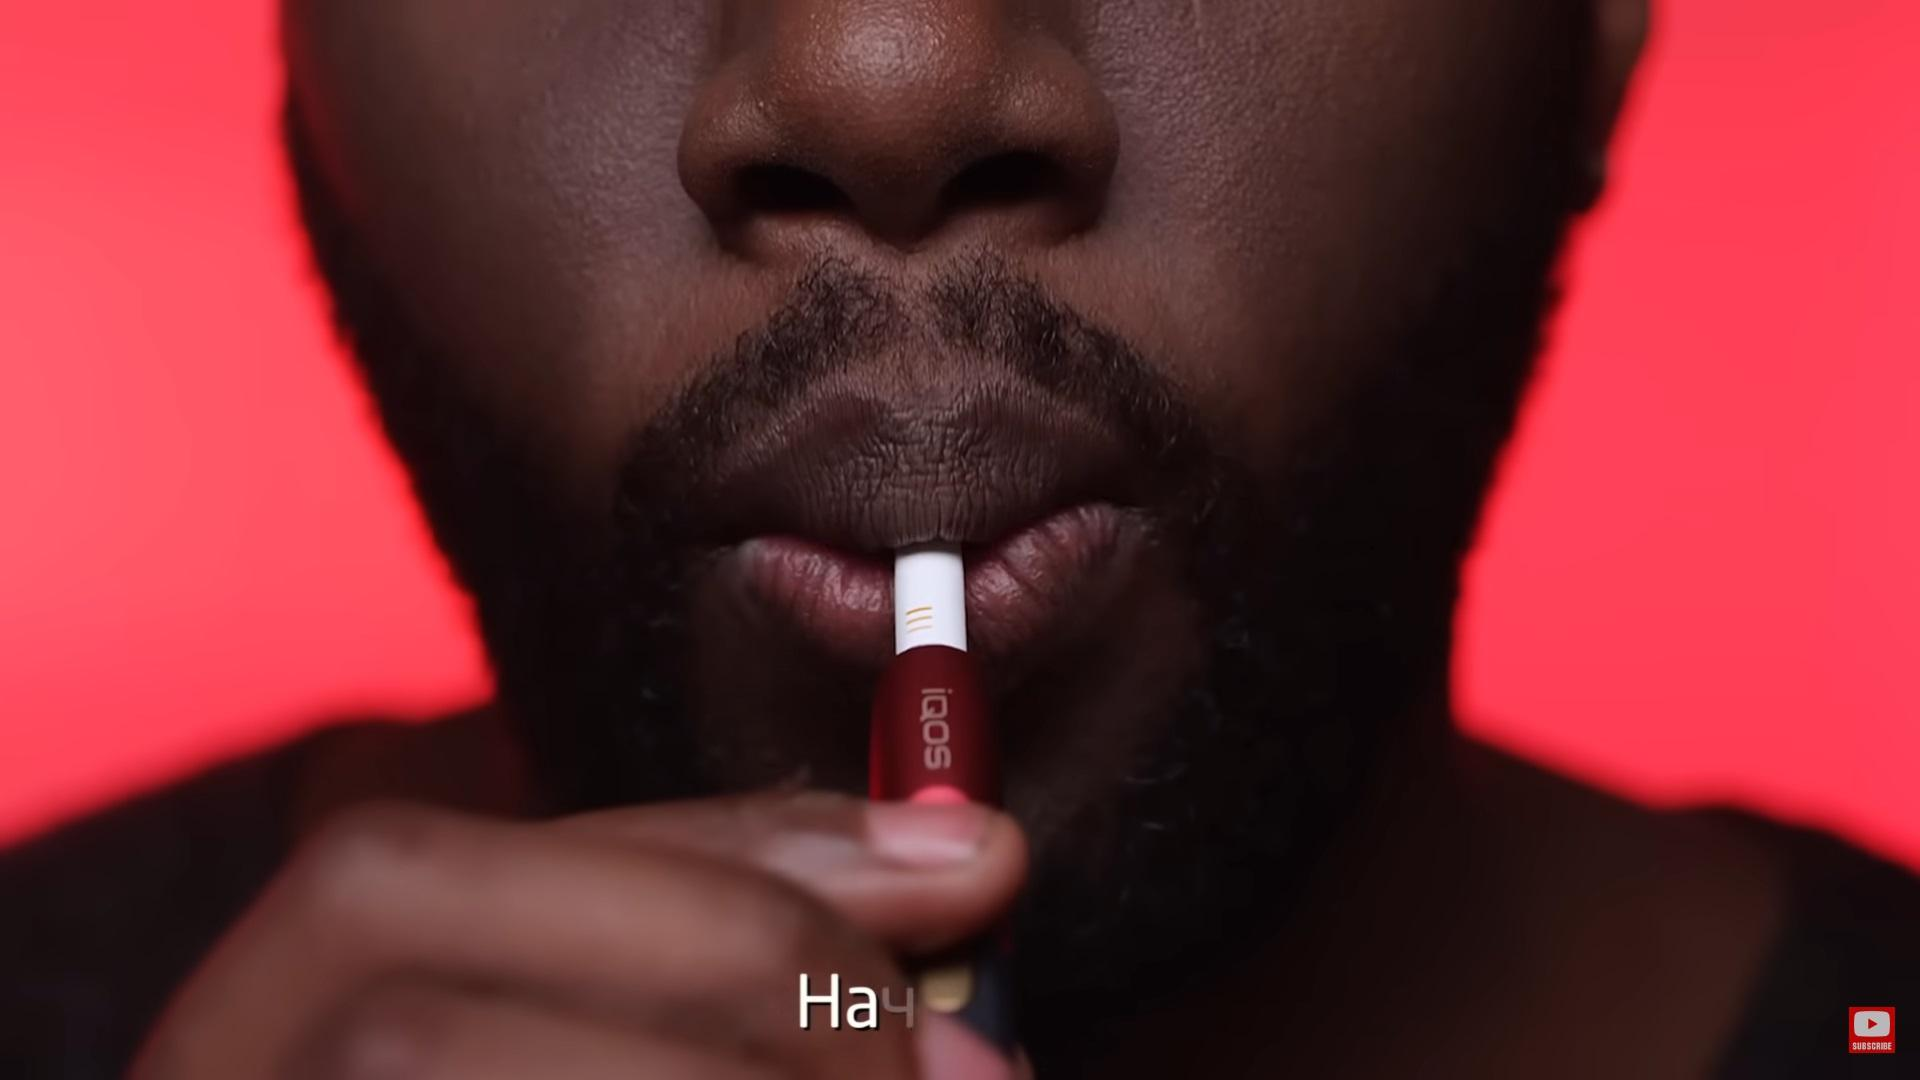iqos: (868, 541, 1025, 1080)
